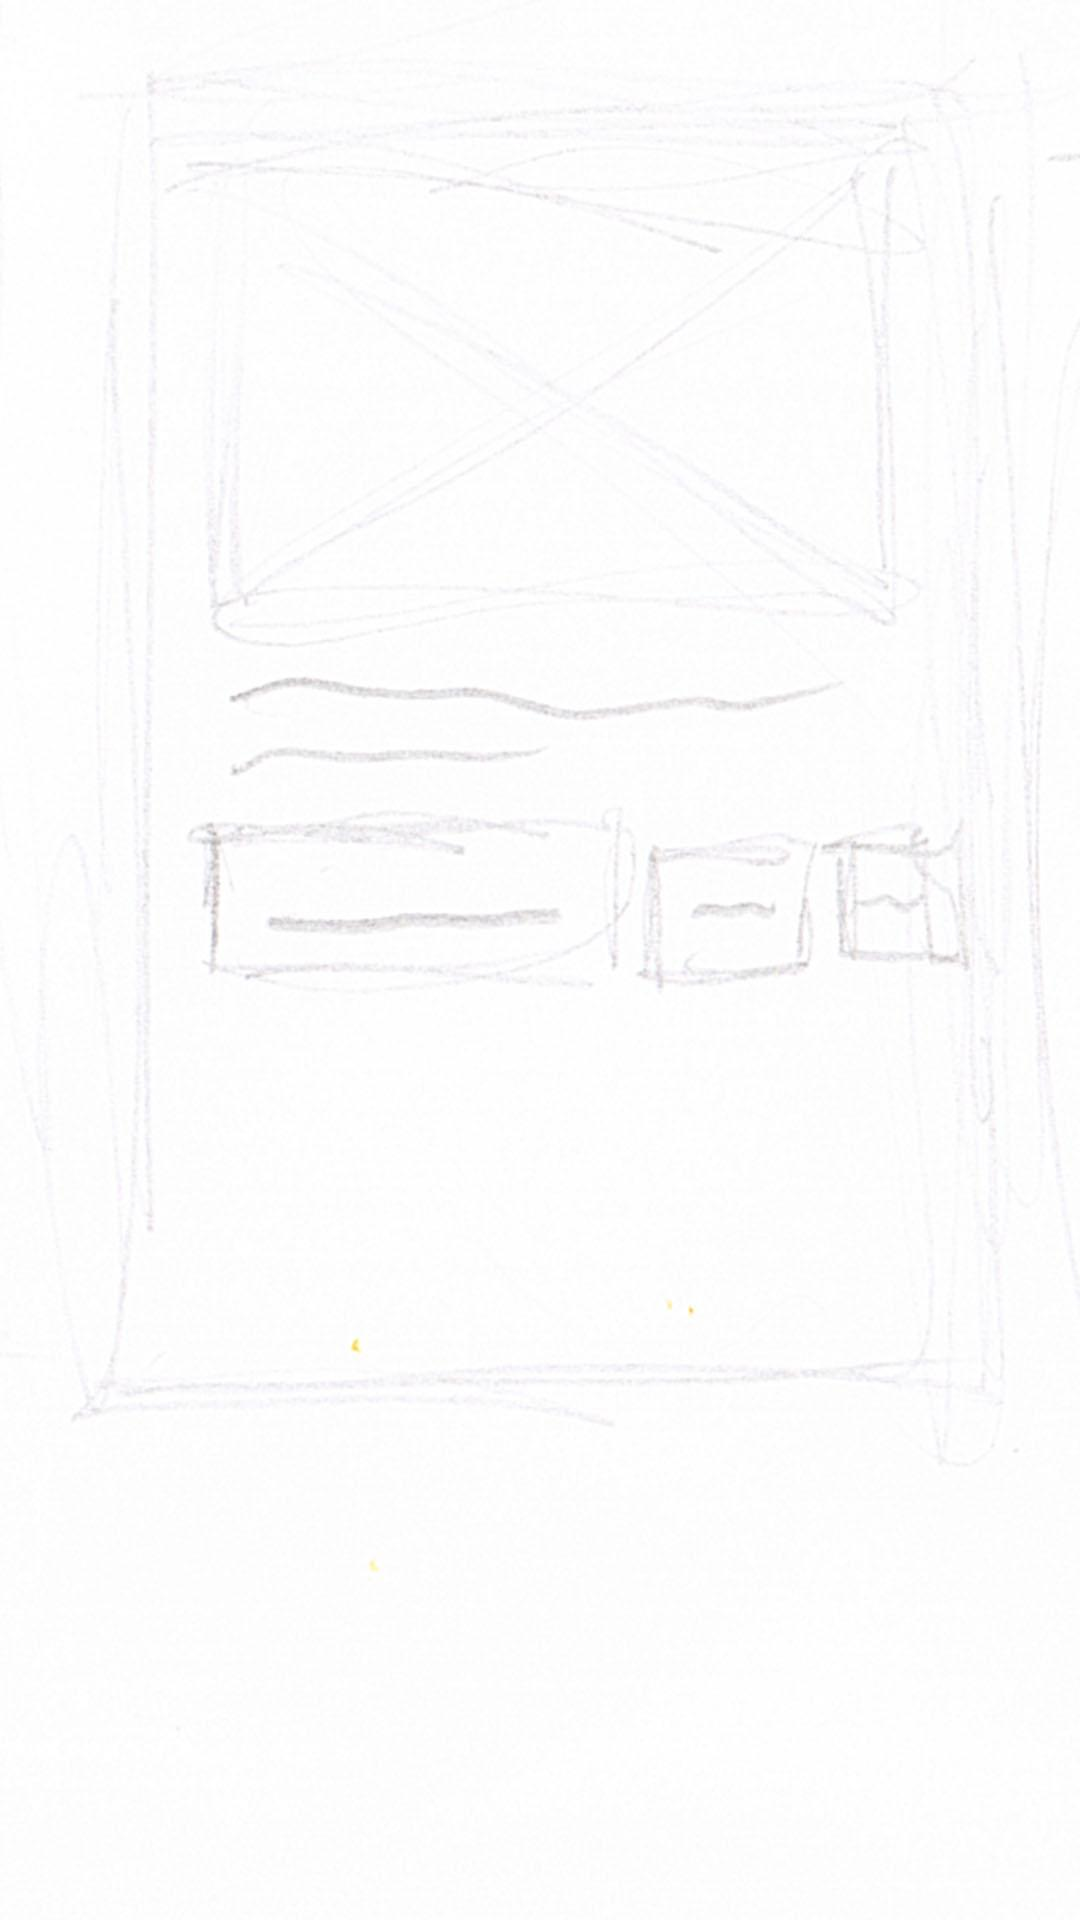Button: (206, 823, 624, 990), (647, 843, 810, 982), (832, 843, 969, 968)
Image: (219, 142, 906, 622)
Label: (225, 670, 848, 779)
Screen: (123, 86, 1026, 1391)
